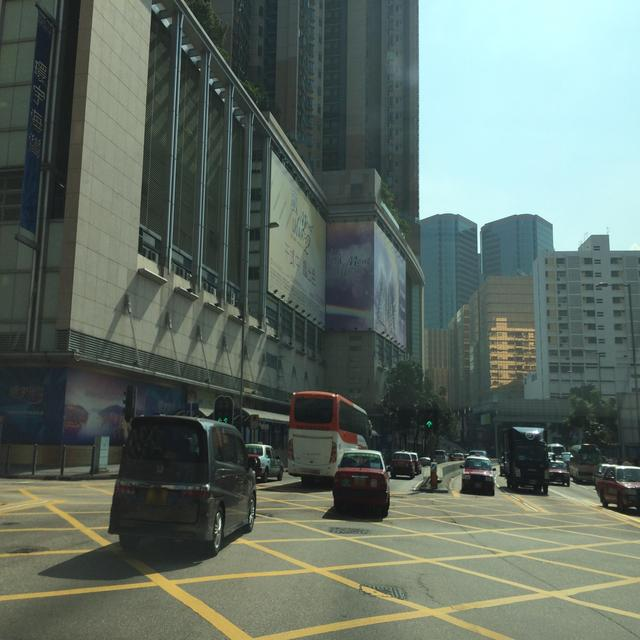Barrier: (418, 439, 501, 492)
Billboard: (267, 150, 405, 349), (20, 10, 52, 234), (480, 414, 490, 424)
Car: (107, 416, 284, 554), (331, 448, 429, 517), (549, 461, 639, 513), (433, 449, 496, 494)
Vegetation: (183, 0, 302, 158), (557, 384, 619, 464), (381, 179, 411, 237)
